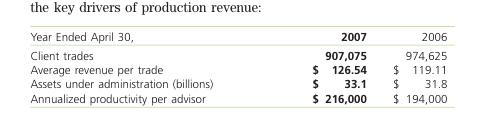table: (29, 29, 446, 104)
table column: (29, 29, 261, 104), (261, 29, 378, 104), (378, 29, 446, 104)
table column header: (29, 29, 446, 45)
table row: (29, 29, 446, 45), (29, 45, 446, 61), (29, 61, 446, 76), (29, 76, 446, 90), (29, 90, 446, 104)
